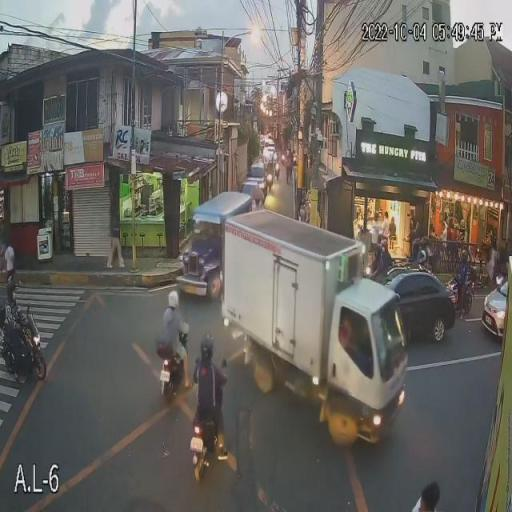helmet: (200, 332, 217, 360), (4, 281, 18, 303), (166, 289, 180, 308)
motorcycle: (0, 306, 48, 381), (154, 340, 188, 399), (189, 415, 215, 482)
rider: (194, 363, 229, 463), (160, 308, 194, 390), (2, 301, 26, 376)
